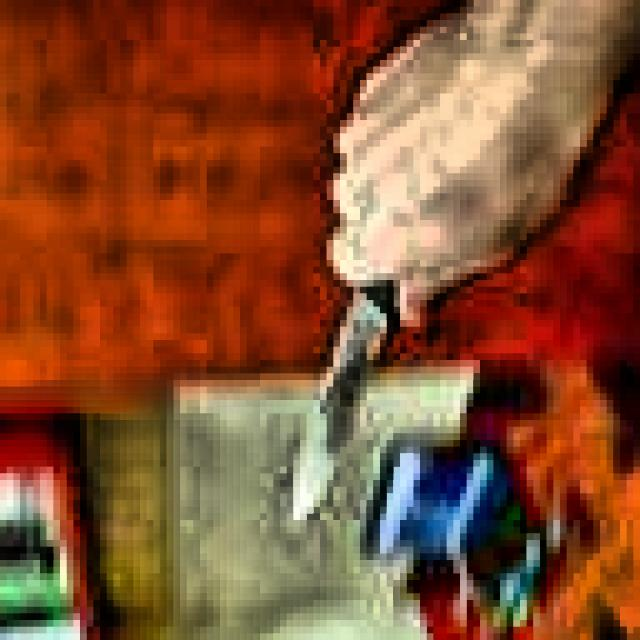knife: (291, 284, 403, 524)
